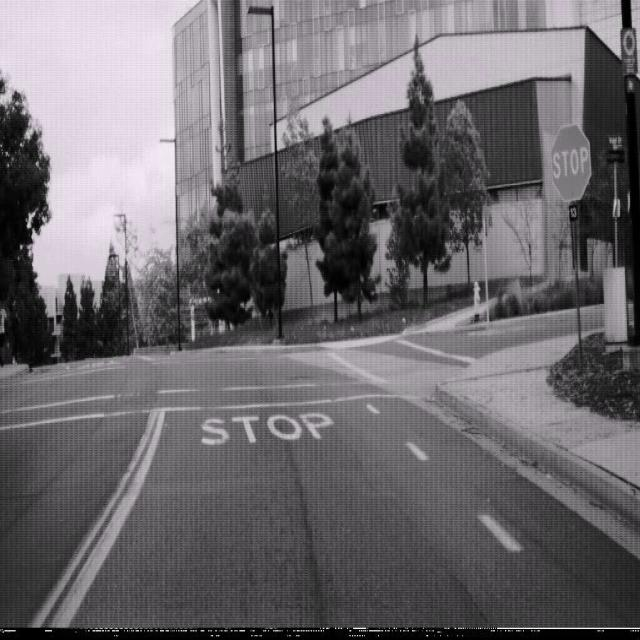stop: (550, 122, 592, 204)
